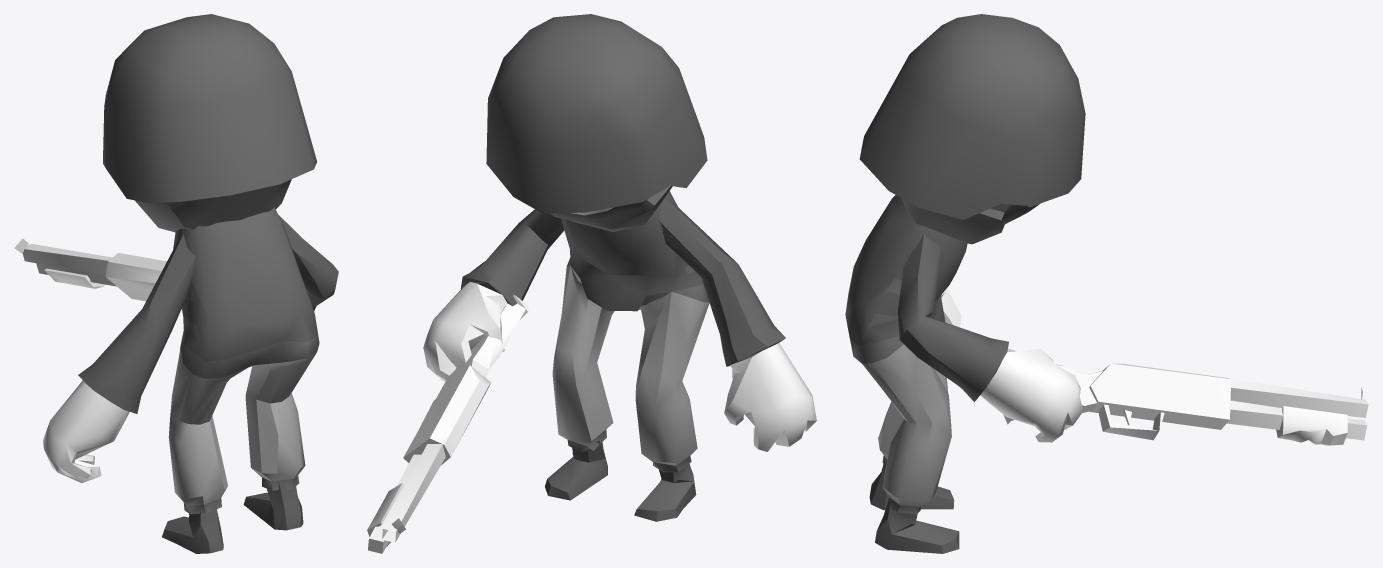
File: river_rifle.glb
3 views of the same model, side by side, from view 1: azimuth 30°, elevation 25°; view 2: azimuth 150°, elevation 25°; view 3: azimuth 270°, elevation 25° (orthographic). The views are drawn at different scales.
Visible parts, largest first — view 1: Body; view 2: Body; view 3: Body.
Part boxes in pixels (<box>): Body: <box>14,14,338,553</box>; Body: <box>367,14,816,553</box>; Body: <box>845,14,1368,553</box>.
Size of the model in its own units: 1.22 by 1.8 by 1.7.
Materials: 2 (1 with a texture image).
